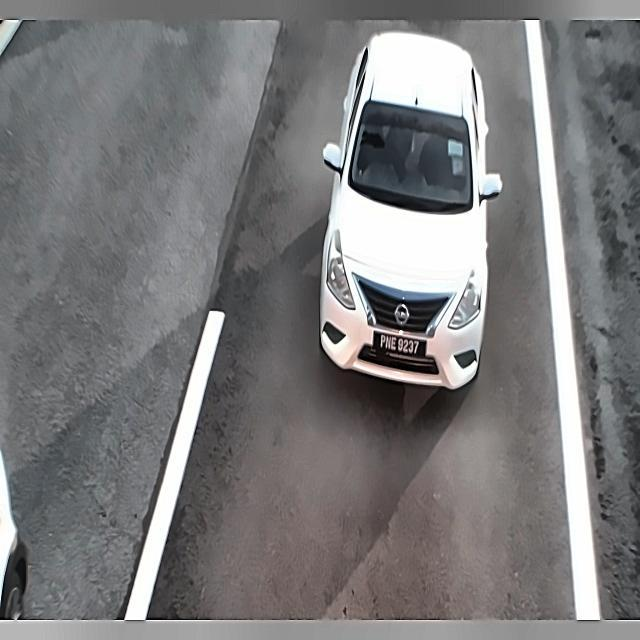car: (369, 323, 426, 369)
